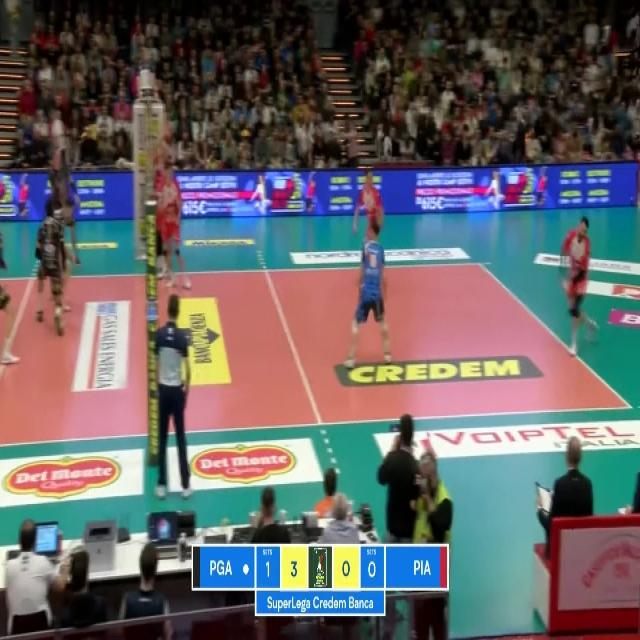volleyball court: (0, 260, 635, 441)
